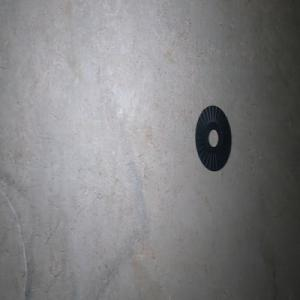Washer: (195, 105, 231, 171)
